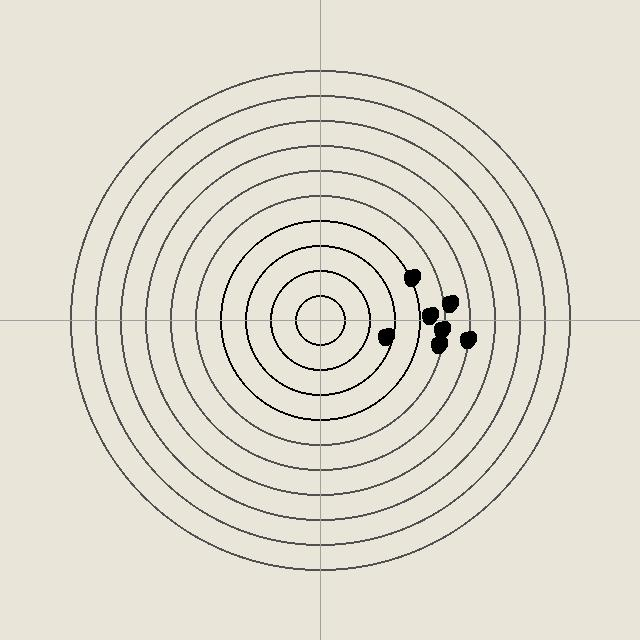good_group: (419, 305, 439, 325), (457, 329, 477, 349), (428, 334, 448, 354), (439, 293, 459, 313), (431, 319, 451, 339), (375, 326, 395, 346), (401, 267, 421, 287)
